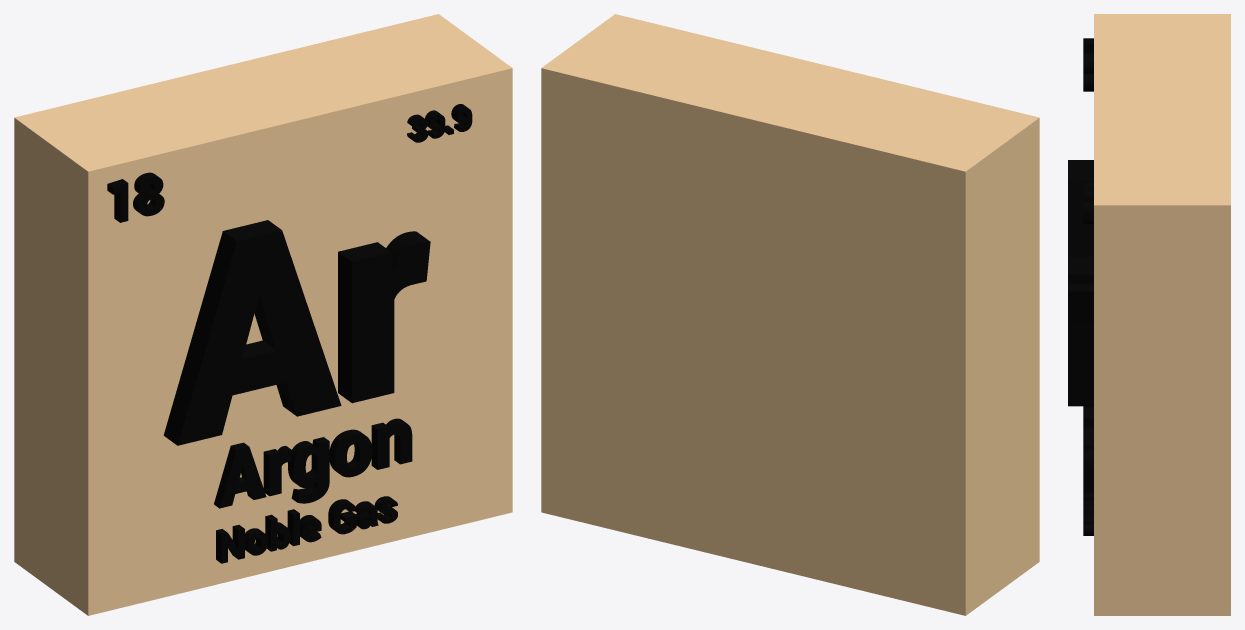
The picture shows the model from 3 angles, left to right: view 1: azimuth 30°, elevation 25°; view 2: azimuth 150°, elevation 25°; view 3: azimuth 270°, elevation 25°; orthographic projection. The views are drawn at different scales.
Visible parts, largest first — view 1: Cube, Text, Text.001, Text.002, Text.003, Text.004; view 2: Cube; view 3: Cube, Text, Text.001, Text.003, Text.004, Text.002.
Boxes of the visible parts, x1,y1,x2,y2 form: Cube: (14,14,512,615); Text: (163,220,430,445); Text.001: (214,418,412,508); Text.002: (216,496,397,563); Text.003: (107,172,164,222); Text.004: (407,104,472,142); Cube: (541,14,1039,615); Cube: (1094,14,1230,615); Text: (1068,160,1093,406); Text.001: (1083,406,1093,493); Text.003: (1083,38,1093,91); Text.004: (1083,181,1093,224); Text.002: (1083,493,1093,535).
Bounding box in the file's own units: 178 × 178 × 63.95.
